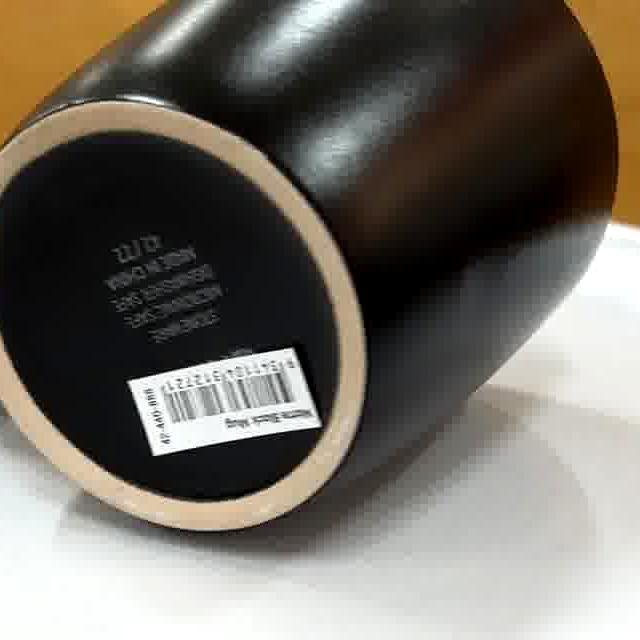cup: (0, 0, 618, 538)
